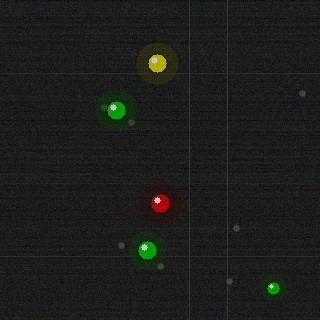green_normal: (136, 239, 158, 261), (105, 99, 127, 121), (265, 280, 281, 296)
red_fault: (149, 192, 171, 214)
yellow_warning: (146, 52, 168, 74)
